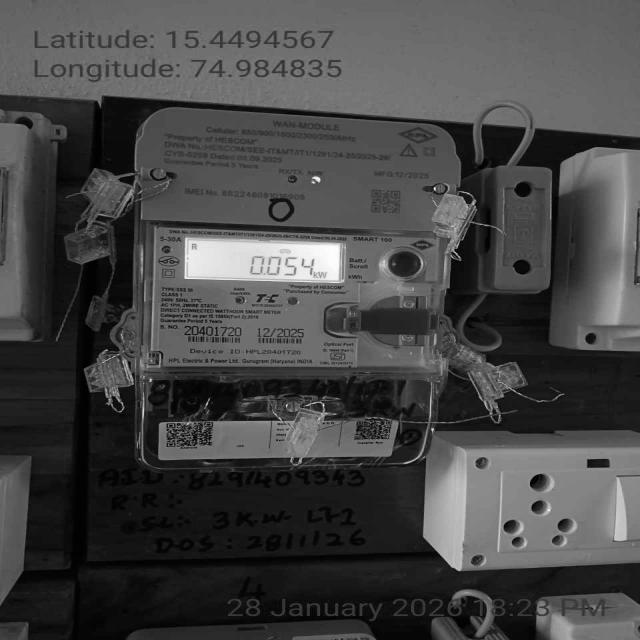meter: (129, 105, 458, 378)
